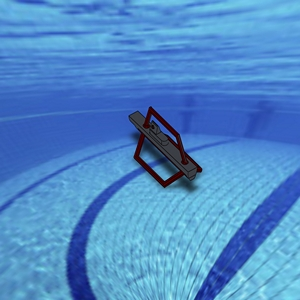submarine: (113, 72, 203, 210)
